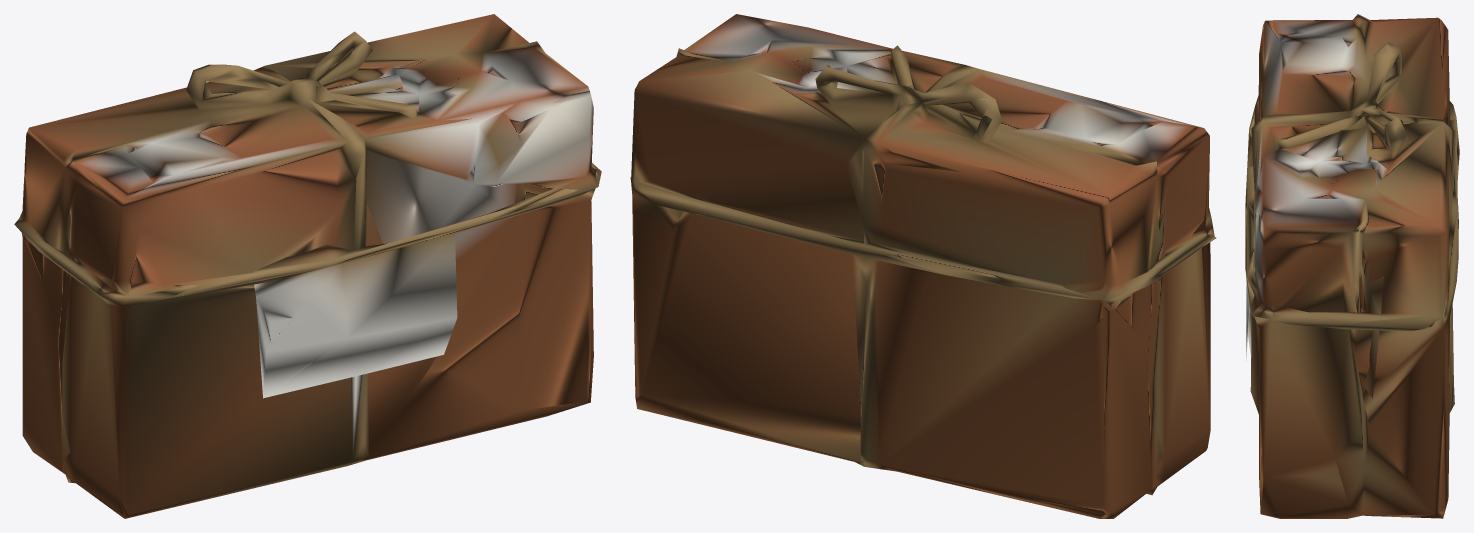
File: gen3d-parcel-lod1.glb
The picture shows the model from 3 angles, left to right: view 1: azimuth 30°, elevation 25°; view 2: azimuth 150°, elevation 25°; view 3: azimuth 270°, elevation 25°; orthographic projection. The views are drawn at different scales.
Visible parts, largest first — view 1: part_0; view 2: part_0; view 3: part_0.
Boxes of the visible parts, x1=… form: part_0: x1=14, y1=14, x2=601, y2=518; part_0: x1=630, y1=14, x2=1216, y2=518; part_0: x1=1245, y1=14, x2=1459, y2=518.
Size of the model in its own units: 1.41 by 0.9995 by 0.5719.
